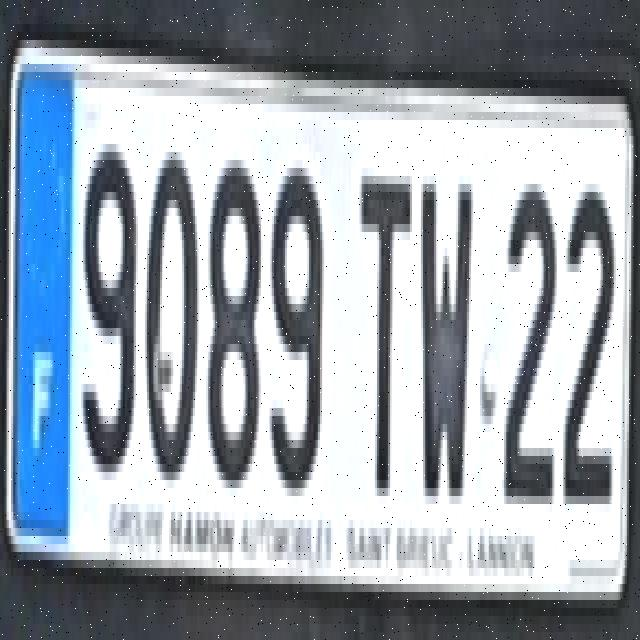EU: (1, 56, 632, 574)
France: (8, 63, 74, 545)
